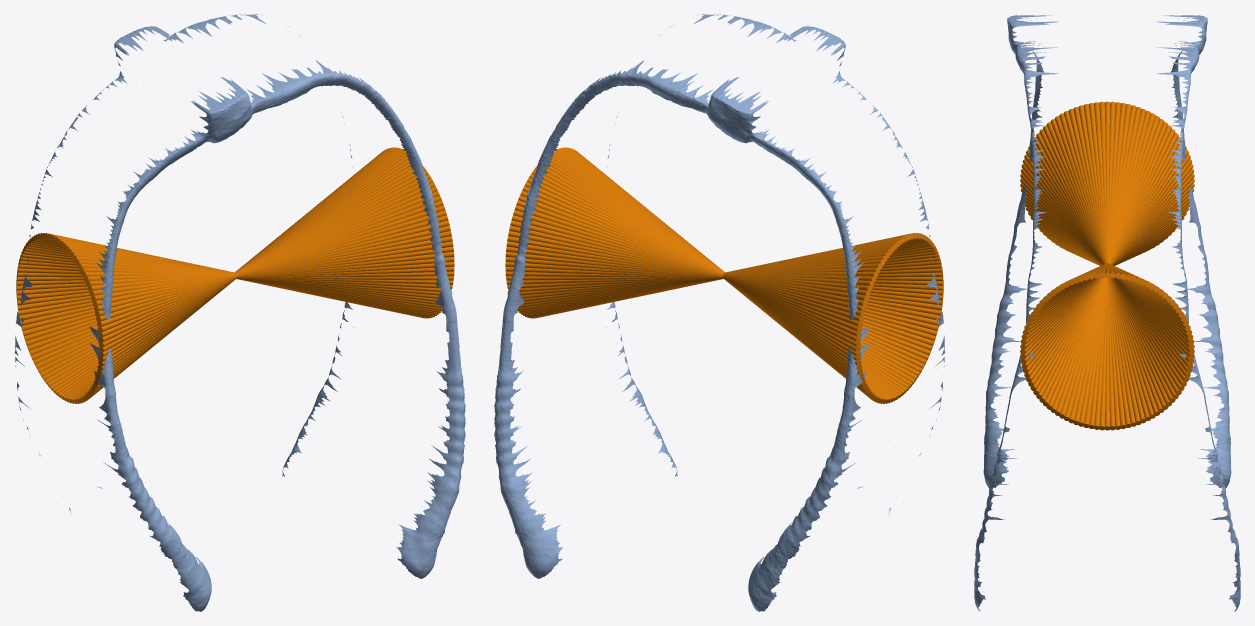
The model's file is A20023502_6145-37-530-7665_DigitalTwin.glb.
The picture shows the model from 3 angles, left to right: view 1: azimuth 30°, elevation 25°; view 2: azimuth 150°, elevation 25°; view 3: azimuth 270°, elevation 25°; orthographic projection.
Parts seen in each view (by area): view 1: world; view 2: world; view 3: world.
Boxes of the visible parts, x1,y1,x2,y2 form: world: (14, 14, 465, 611); world: (494, 14, 945, 611); world: (974, 15, 1240, 611).
Size of the model in its own units: 270 by 372 by 176.
